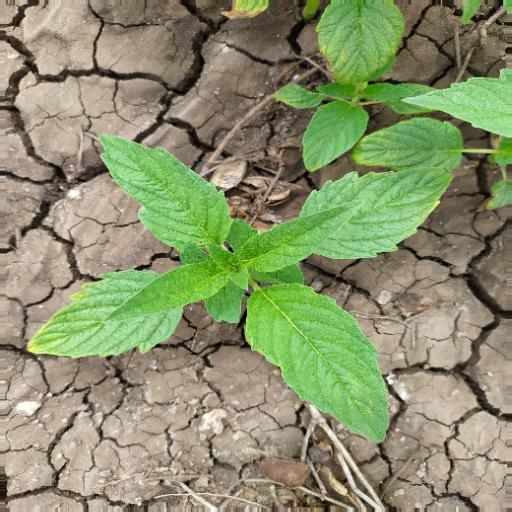crop: (37, 132, 439, 444)
